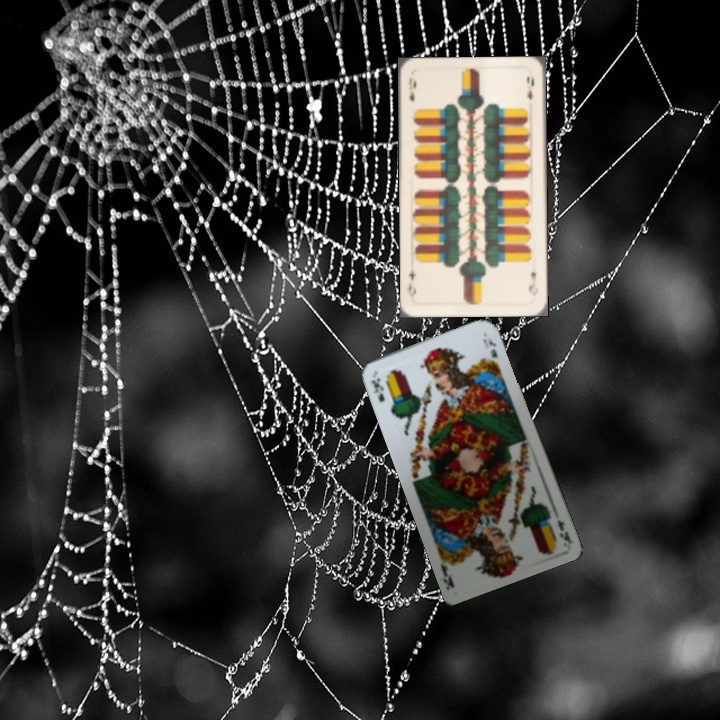E9: (525, 268, 541, 298), (405, 74, 419, 104)
EK: (366, 374, 388, 405), (553, 516, 573, 545)
